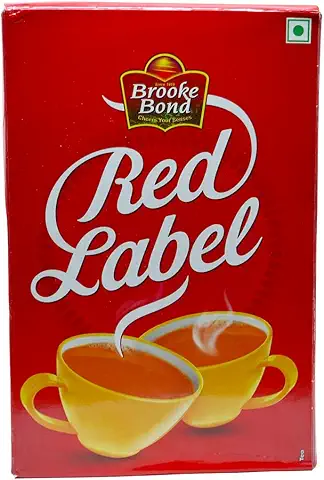Tea: (8, 7, 315, 472)
